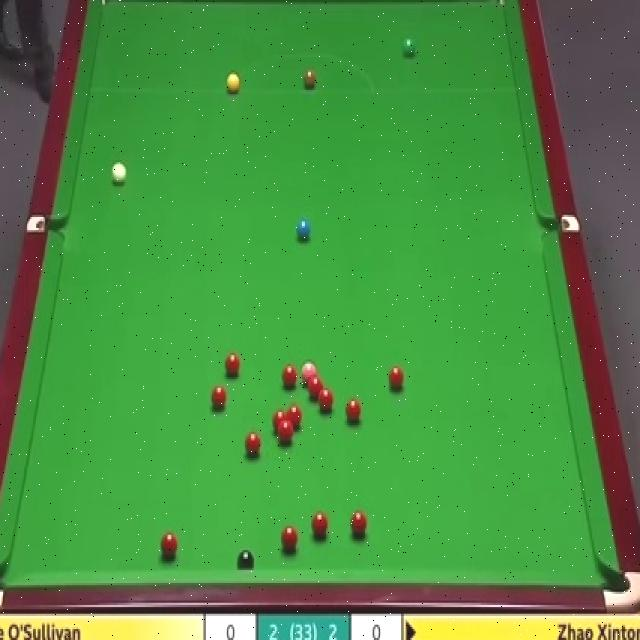black-ball: (239, 549, 258, 570)
blue-ball: (296, 220, 311, 239)
brown-ball: (304, 70, 318, 94)
green-ball: (404, 38, 414, 54)
pink-ball: (301, 362, 317, 383)
red-ball: (286, 404, 304, 432), (312, 508, 328, 539), (159, 532, 178, 558), (280, 526, 299, 552), (247, 431, 265, 457), (388, 362, 404, 388), (210, 387, 228, 410), (351, 512, 368, 536), (278, 421, 294, 445), (226, 352, 240, 378), (281, 364, 296, 386), (319, 390, 332, 414), (345, 401, 361, 420), (273, 411, 287, 432), (308, 376, 322, 397)
white-ball: (110, 162, 127, 183)
yellow-ball: (226, 72, 240, 95)
